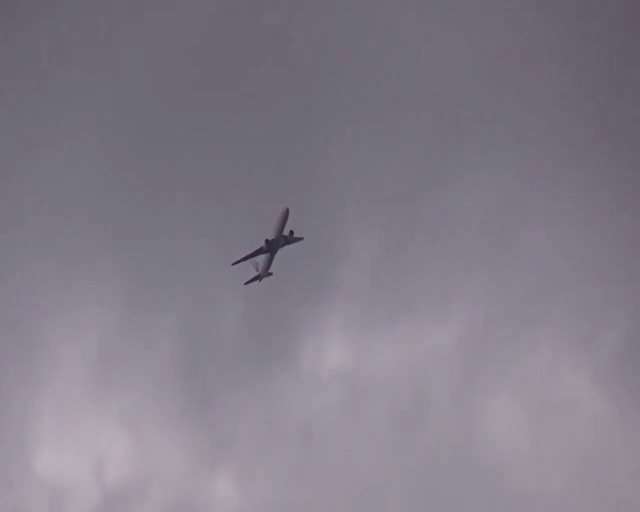AIRPLANE: (231, 206, 305, 286)
